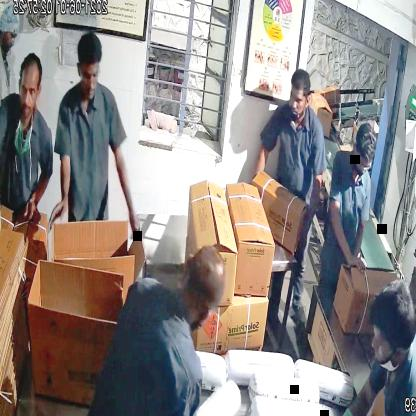no_goggles: (15, 78, 42, 102), (285, 87, 311, 110)
